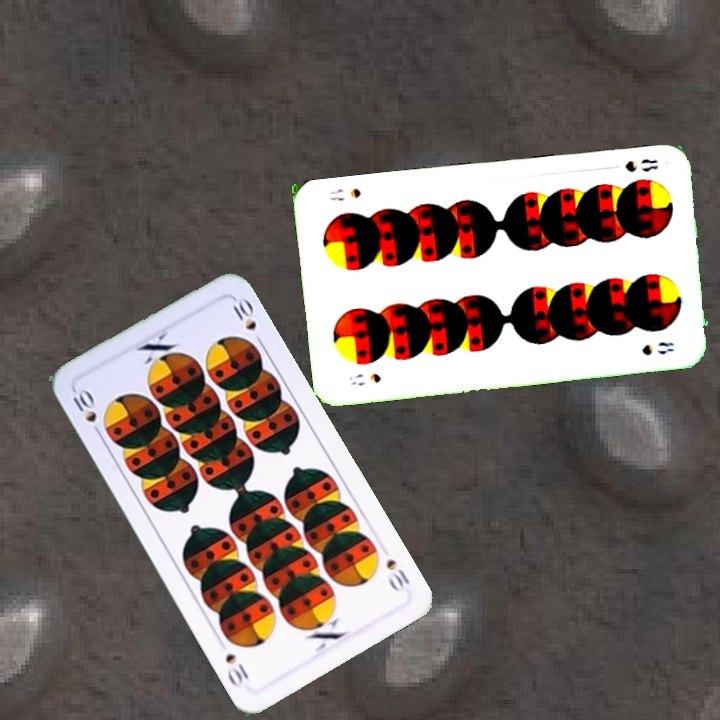S10: (68, 385, 105, 440), (382, 554, 413, 588)
S8: (620, 154, 661, 175), (345, 369, 383, 389)
